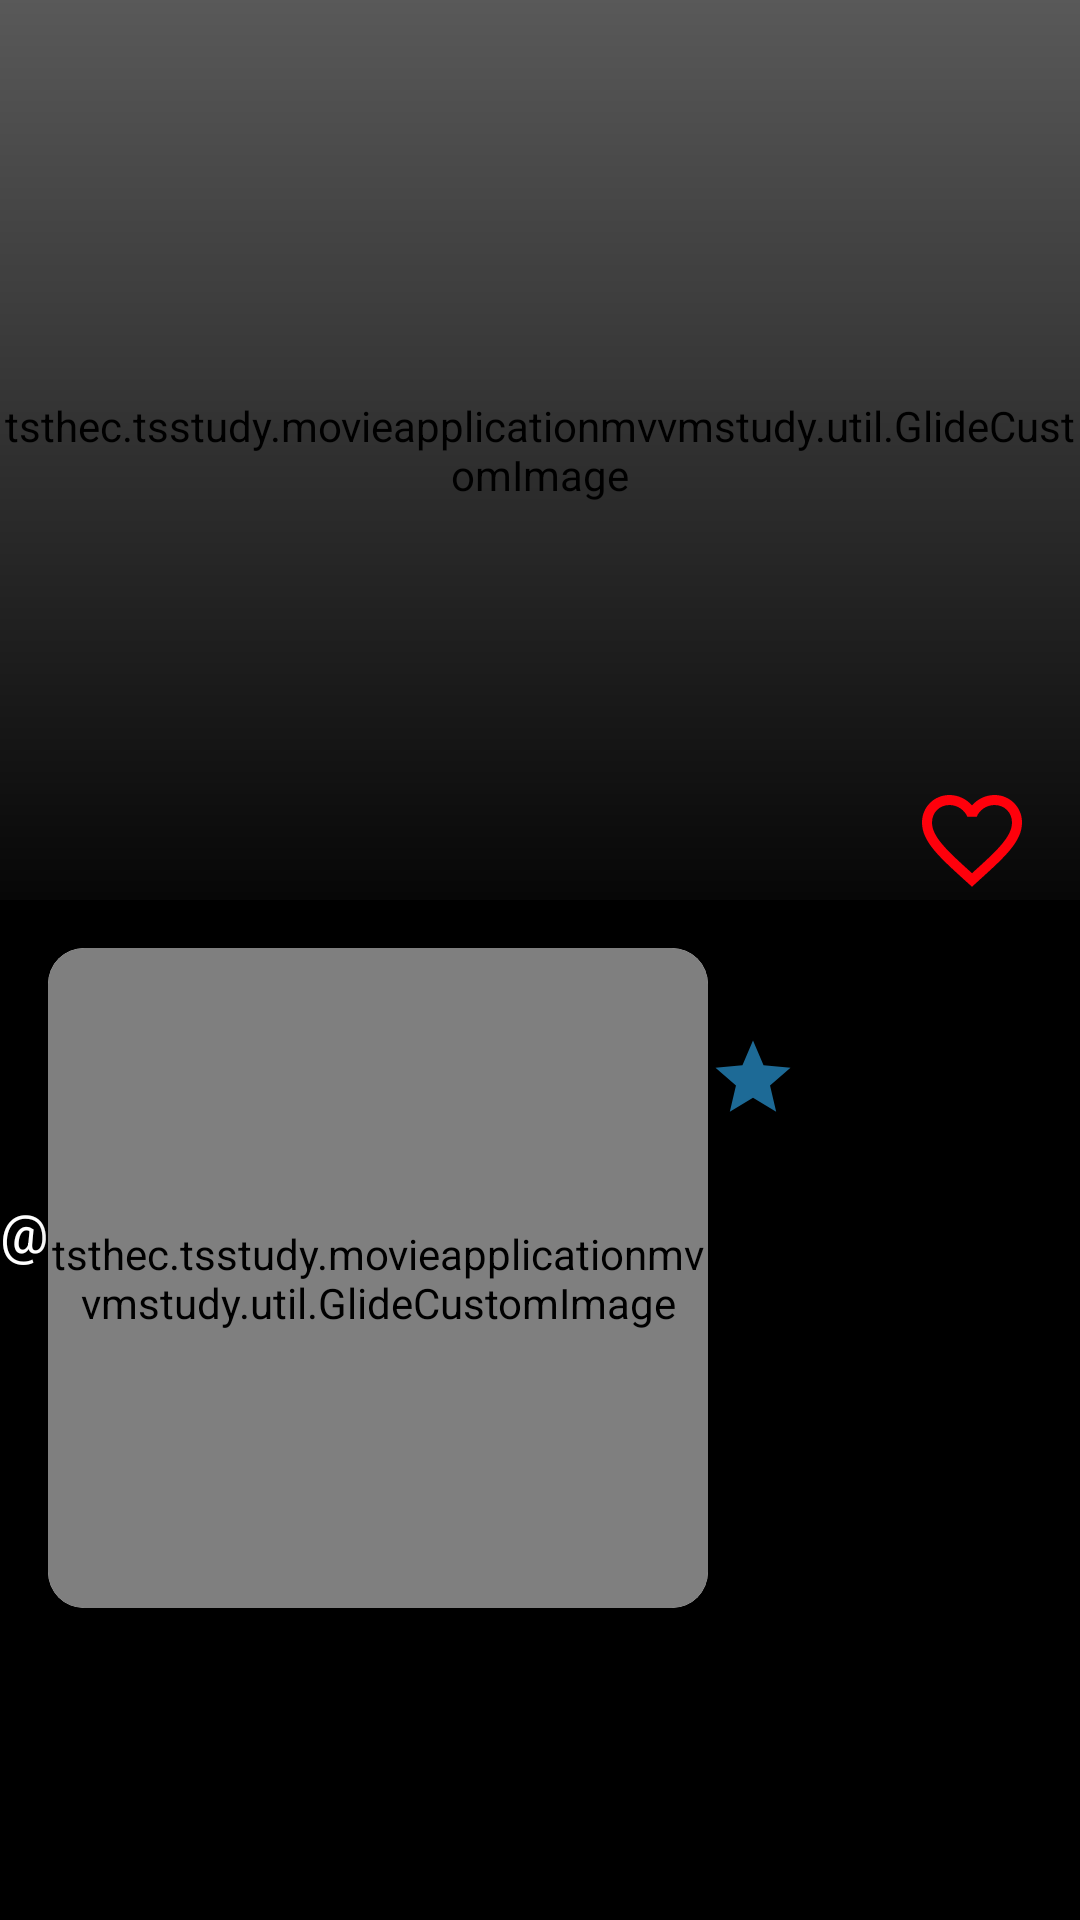

Locate icon controls on the screen. Image size 1080×1920, boxes as bbox=[x1, y1, x2, y2].
favorite border: bbox=[922, 795, 1022, 887]
star: bbox=[716, 1041, 790, 1112]
